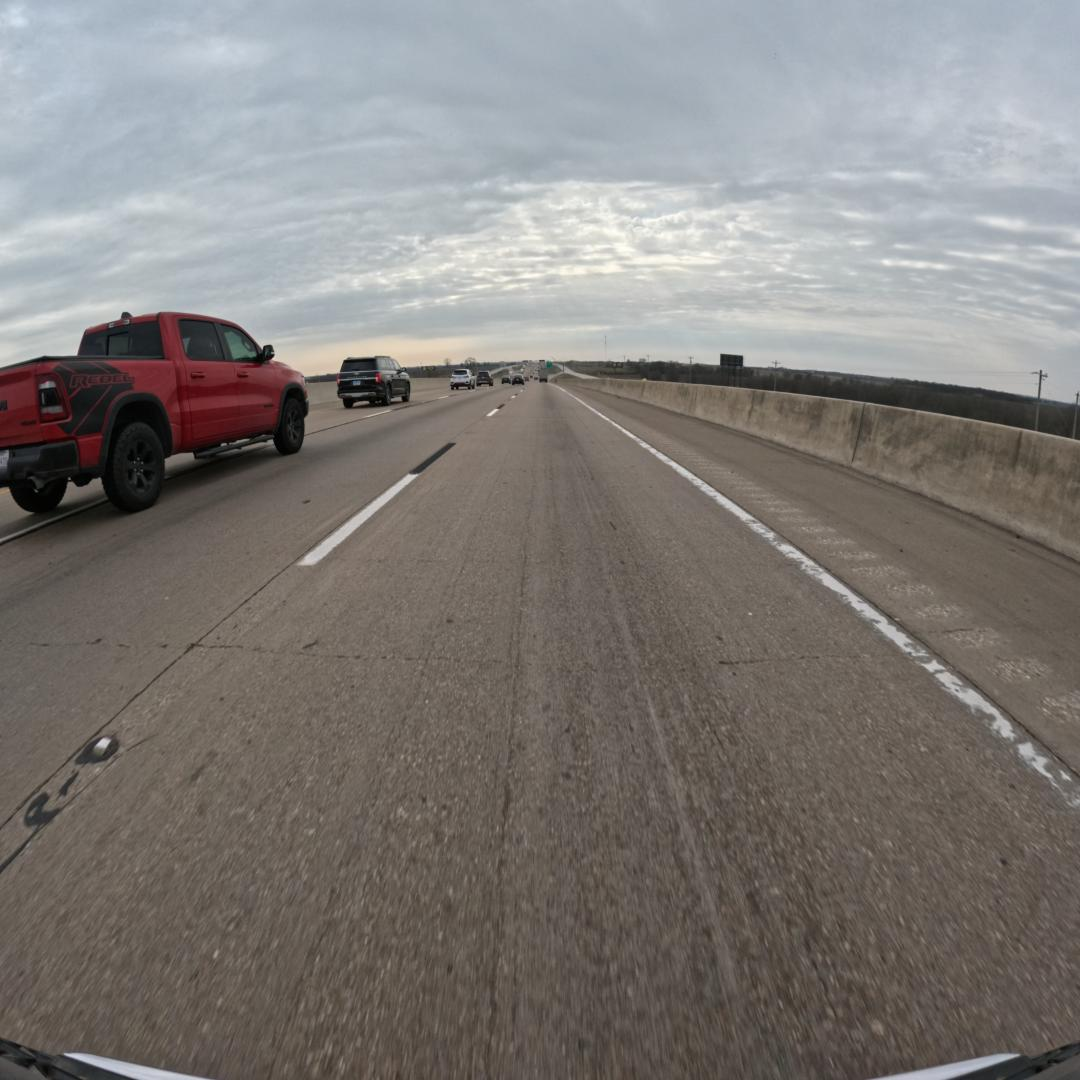lane0: (0, 386, 1080, 1077)
lane1: (0, 388, 512, 827)
